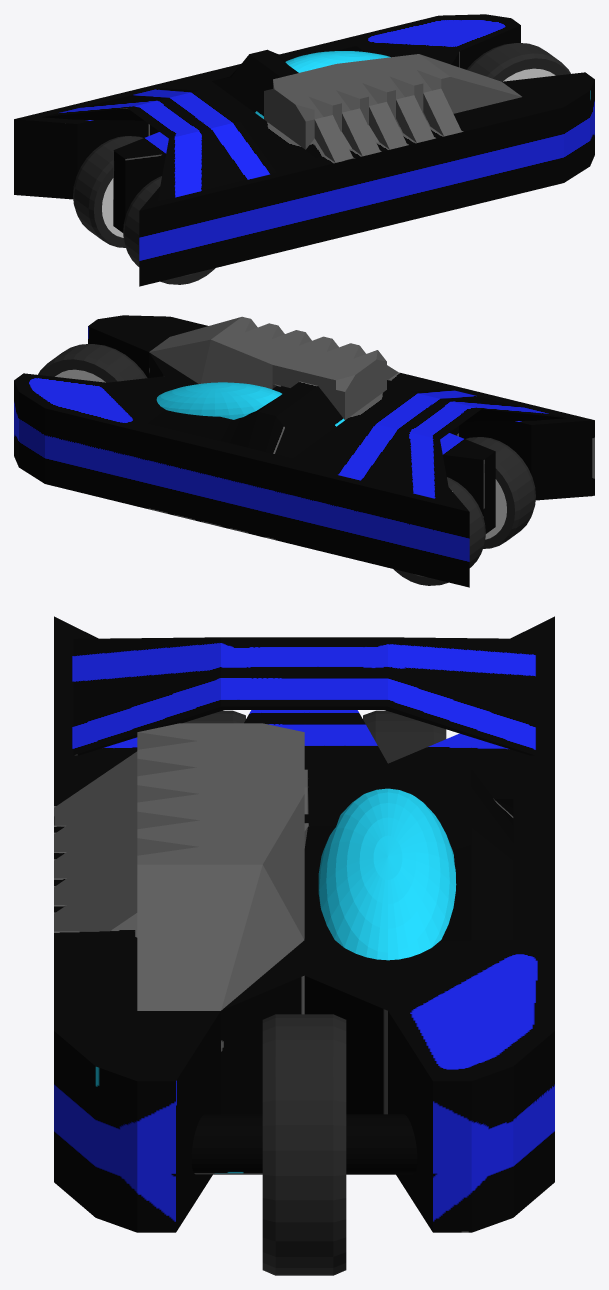
File: Player2Redo.fbx
3 renders of one model, top to bottom at view 1: azimuth 30°, elevation 25°; view 2: azimuth 150°, elevation 25°; view 3: azimuth 270°, elevation 25°, orthographic. The views are drawn at different scales.
Visible parts, largest first — view 1: Cube, Cylinder, Cylinder.001, Cylinder.002; view 2: Cube, Cylinder.002, Cylinder.001, Cylinder; view 3: Cube, Cylinder.001, Cylinder.
Boxes of the visible parts, <box> form: Cube: <box>14,14,594,286</box>; Cylinder: <box>73,136,143,247</box>; Cylinder.001: <box>466,43,570,81</box>; Cylinder.002: <box>123,176,215,284</box>; Cube: <box>14,315,594,587</box>; Cylinder.002: <box>465,437,535,548</box>; Cylinder.001: <box>38,344,147,382</box>; Cylinder: <box>393,477,485,585</box>; Cube: <box>54,616,554,1232</box>; Cylinder.001: <box>262,1014,346,1275</box>; Cylinder: <box>363,710,446,763</box>.
Size of the model in its own units: 1367 by 400 by 600.
7 materials, 1 textured.
